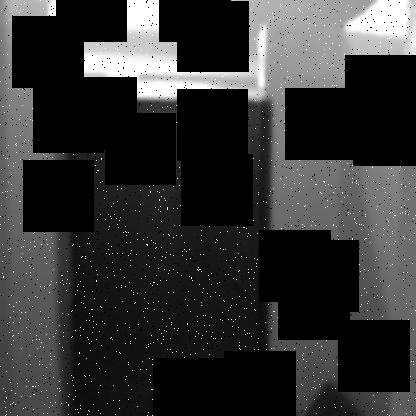Porte: (52, 90, 277, 415)
